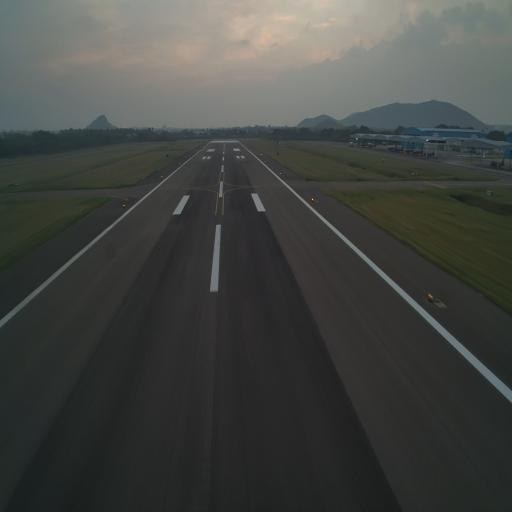on: (427, 290, 436, 304), (310, 196, 315, 203), (122, 202, 126, 210)
